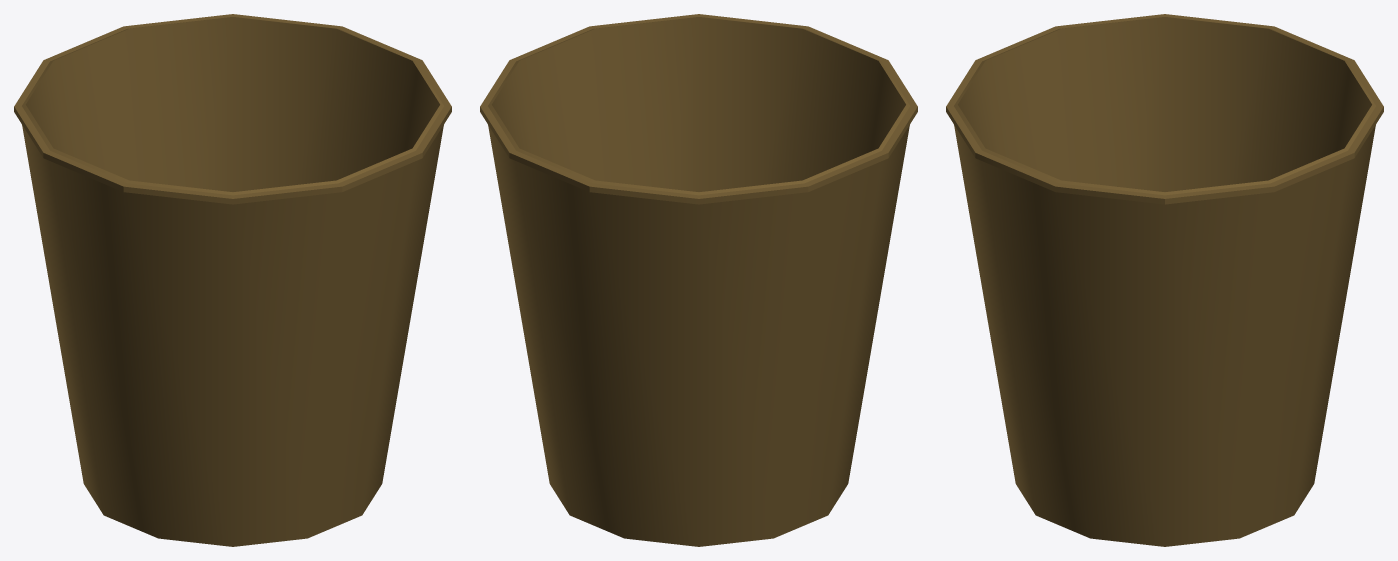
The model's file is BucketFiltered_TFSGJ_Spring2025.fbx.
The picture shows the model from 3 angles, left to right: view 1: azimuth 30°, elevation 25°; view 2: azimuth 150°, elevation 25°; view 3: azimuth 270°, elevation 25°; orthographic projection.
Parts seen in each view (by area): view 1: Empty Bucket; view 2: Empty Bucket; view 3: Empty Bucket.
Boxes of the visible parts, x1,y1,x2,y2 form: Empty Bucket: [14, 14, 451, 546]; Empty Bucket: [480, 14, 917, 546]; Empty Bucket: [946, 14, 1383, 546].
Bounding box in the file's own units: 21.66 × 20.71 × 21.66.
